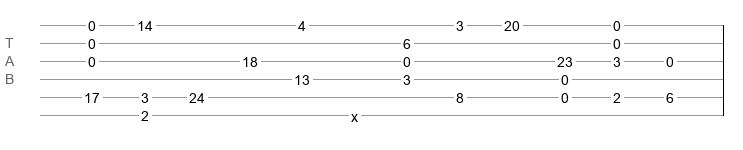0: (88, 36, 96, 46), (88, 18, 96, 28), (88, 54, 96, 64), (403, 54, 411, 64), (561, 90, 569, 100), (561, 72, 569, 82), (613, 18, 621, 28), (613, 36, 621, 46), (666, 54, 674, 64)
13: (294, 72, 310, 82)
14: (137, 18, 153, 28)
17: (84, 90, 100, 100)
18: (242, 54, 258, 64)
2: (141, 108, 149, 118), (613, 90, 621, 100)
20: (504, 18, 520, 28)
23: (557, 54, 573, 64)
24: (189, 90, 205, 100)
3: (141, 90, 149, 100), (403, 72, 411, 82), (456, 18, 464, 28), (613, 54, 621, 64)
4: (298, 18, 306, 28)
6: (403, 36, 411, 46), (666, 90, 674, 100)
8: (456, 90, 464, 100)
x: (351, 109, 358, 117)
